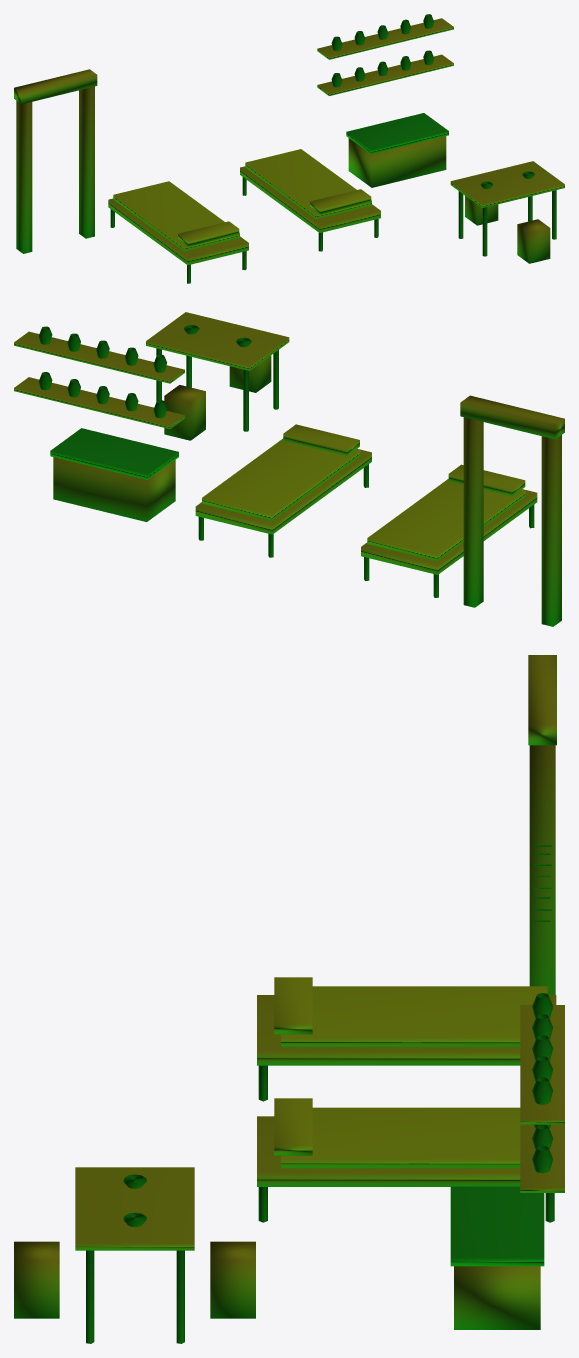
File: spire_quarters.glb
The picture shows the model from 3 angles, top to bottom: view 1: azimuth 30°, elevation 25°; view 2: azimuth 150°, elevation 25°; view 3: azimuth 270°, elevation 25°; orthographic projection. The views are drawn at different scales.
Parts seen in each view (by area): view 1: spire_quarters; view 2: spire_quarters; view 3: spire_quarters.
Part boxes in pixels (left/top/right/bottom): spire_quarters: left=14, top=14, right=564, bottom=283; spire_quarters: left=14, top=312, right=564, bottom=626; spire_quarters: left=14, top=655, right=564, bottom=1343.
Size of what is drawn, in the model's own units: 6.19 by 2.23 by 3.65.
